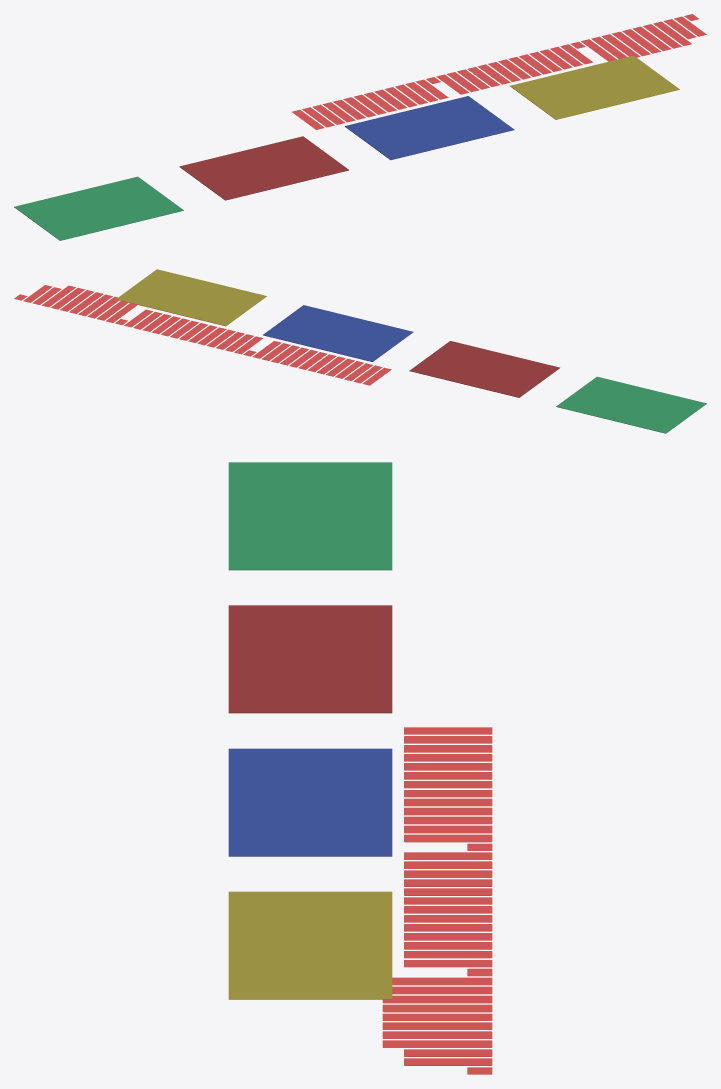
The model's file is carta_poker_normal.glb.
3 renders of one model, top to bottom at view 1: azimuth 30°, elevation 25°; view 2: azimuth 150°, elevation 25°; view 3: azimuth 270°, elevation 25°, orthographic. The views are drawn at different scales.
Parts seen in each view (by area): view 1: Tapete_Azul, Tapete_Rojo, Tapete_Amarillo, Tapete_Verde; view 2: Tapete_Rojo, Tapete_Verde, Tapete_Azul, Tapete_Amarillo; view 3: Tapete_Verde, Tapete_Rojo, Tapete_Azul, Tapete_Amarillo.
Part boxes in pixels (x1,y1,x2,y2): Tapete_Azul: (344, 96, 514, 160); Tapete_Rojo: (179, 136, 348, 200); Tapete_Amarillo: (510, 55, 679, 119); Tapete_Verde: (14, 176, 183, 240); Tapete_Rojo: (409, 341, 559, 397); Tapete_Verde: (556, 376, 706, 433); Tapete_Azul: (263, 305, 413, 361); Tapete_Amarillo: (116, 269, 266, 326); Tapete_Verde: (228, 462, 392, 570); Tapete_Rojo: (228, 605, 392, 713); Tapete_Azul: (228, 748, 392, 856); Tapete_Amarillo: (228, 891, 392, 999).
Bounding box in the file's own units: 5.13 × 0.003 × 0.934.
